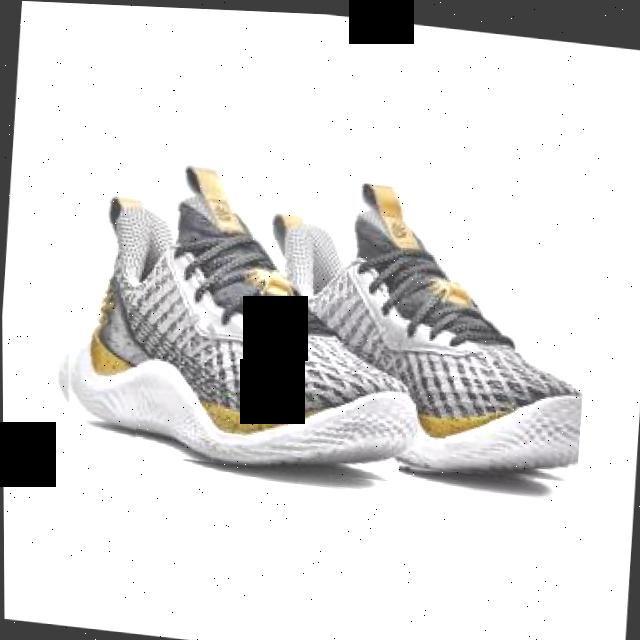shoe: (49, 149, 417, 481), (220, 166, 595, 485)
